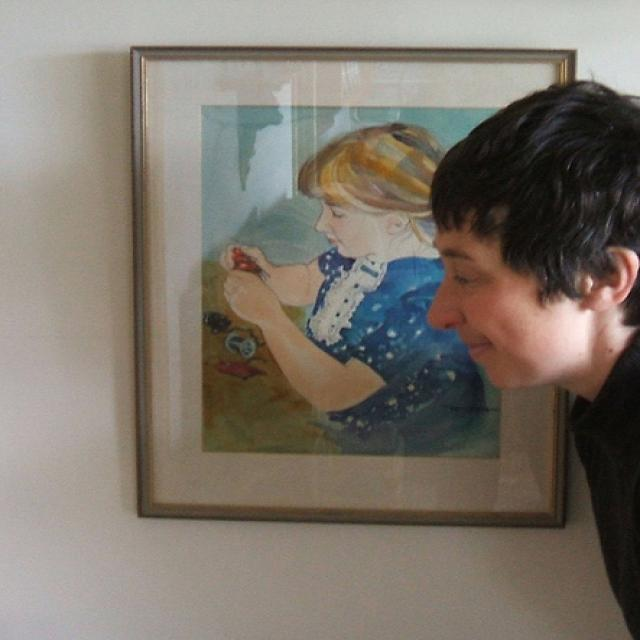person: (426, 79, 640, 640)
